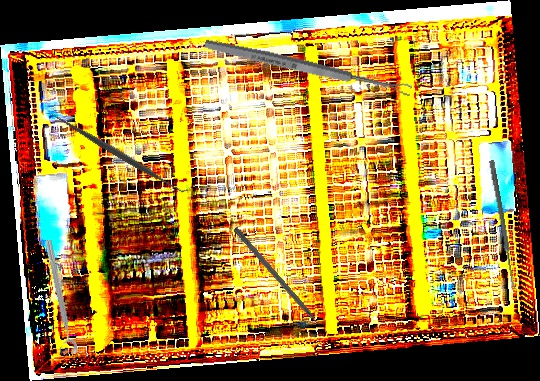Fixation Ring: (35, 238, 79, 357)
Hook Surgical: (231, 226, 327, 335)
Spatula Surgical: (46, 105, 191, 202)
Surgical Spoon: (203, 36, 413, 99), (488, 159, 517, 291)
